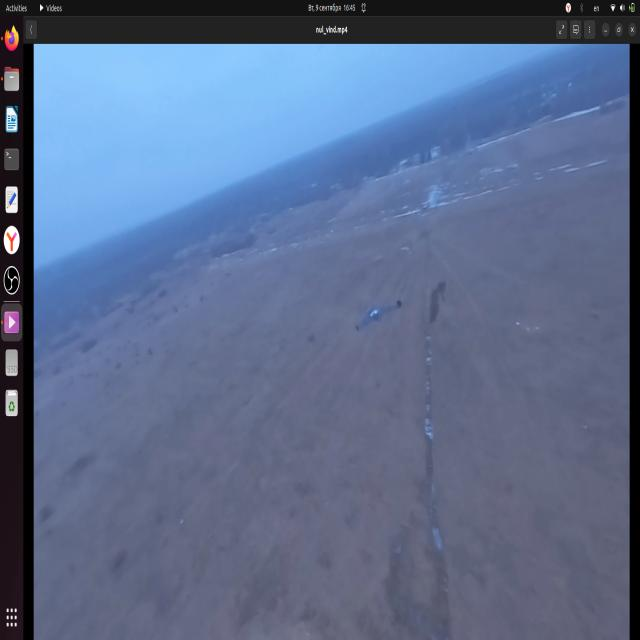planedrone: (356, 293, 402, 336)
